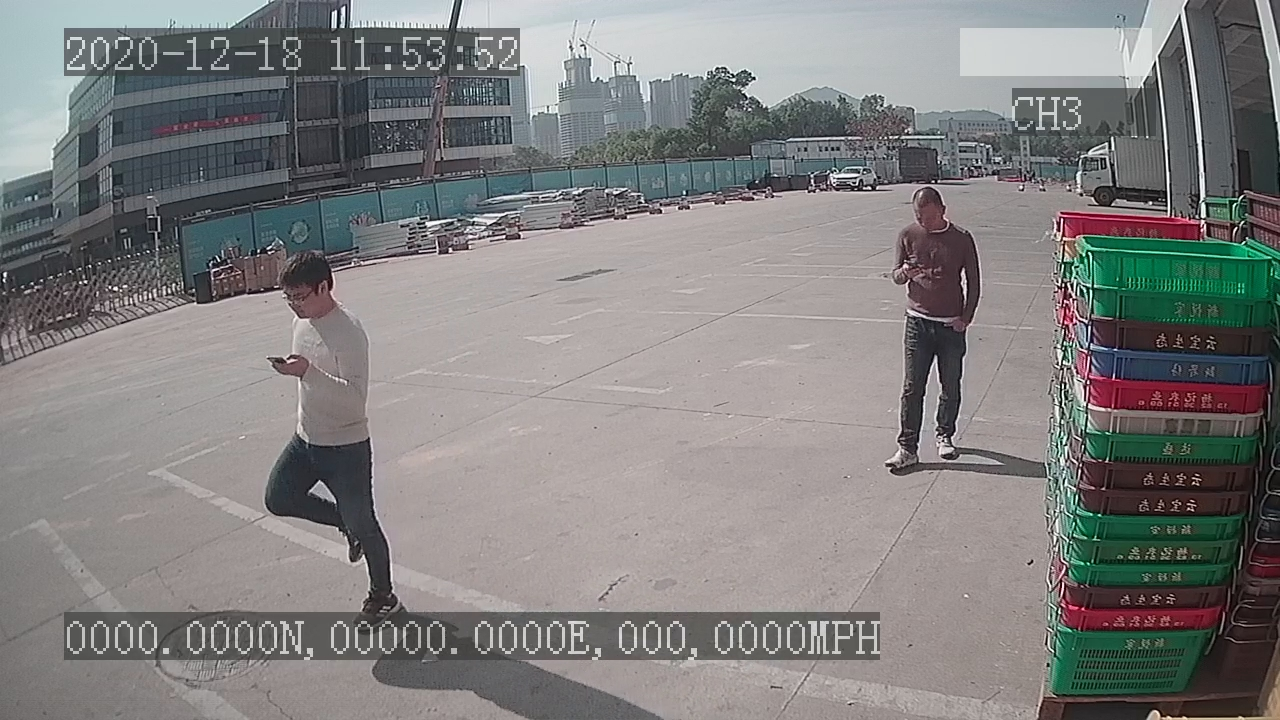person: (876, 185, 988, 479)
